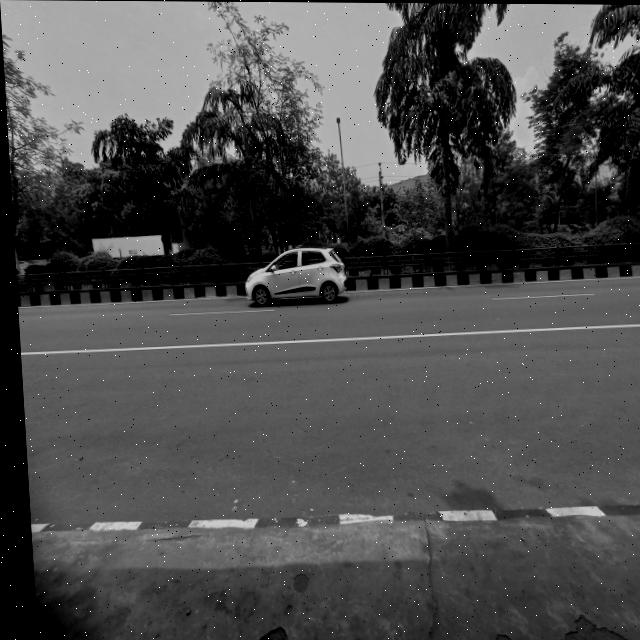car: (231, 239, 349, 312)
